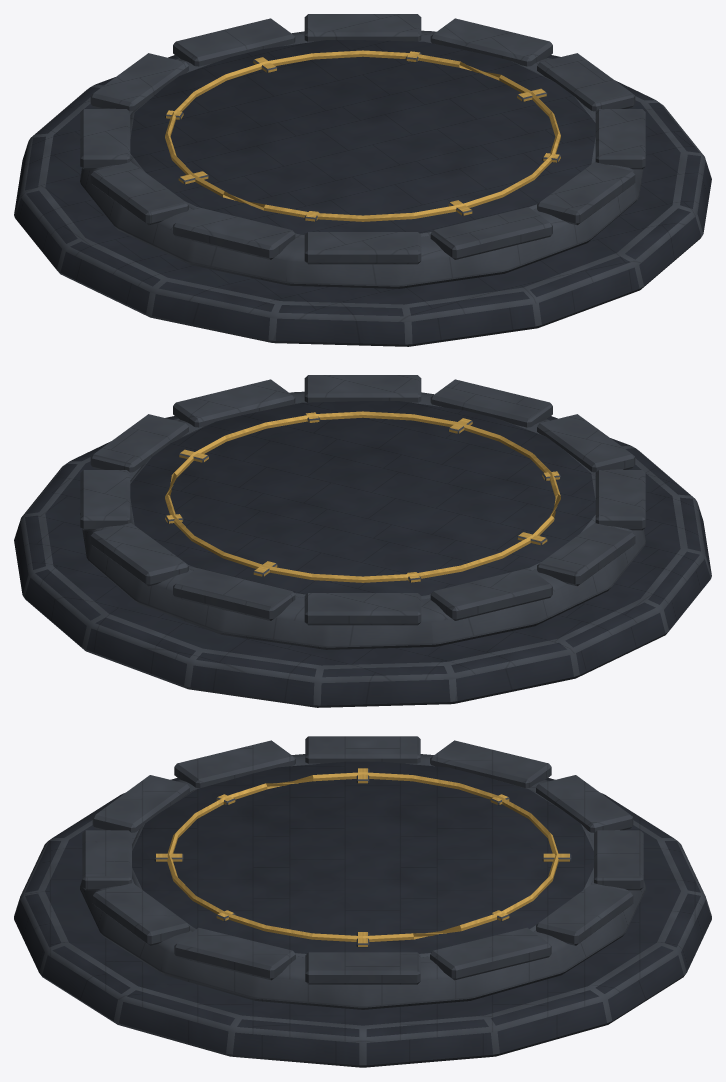
Rendered from kit_sanctum_plinth.glb.
3 renders of one model, top to bottom at view 1: azimuth 30°, elevation 25°; view 2: azimuth 150°, elevation 25°; view 3: azimuth 270°, elevation 25°, orthographic.
Visible parts, largest first — view 1: SanctumPlinth; view 2: SanctumPlinth; view 3: SanctumPlinth.
Boxes of the visible parts, left/top/right/bottom form: SanctumPlinth: left=14, top=14, right=711, bottom=346; SanctumPlinth: left=14, top=375, right=711, bottom=707; SanctumPlinth: left=14, top=736, right=711, bottom=1067.
Bounding box in the file's own units: 3.38 × 0.3625 × 3.38.
3 materials, 3 textured.
